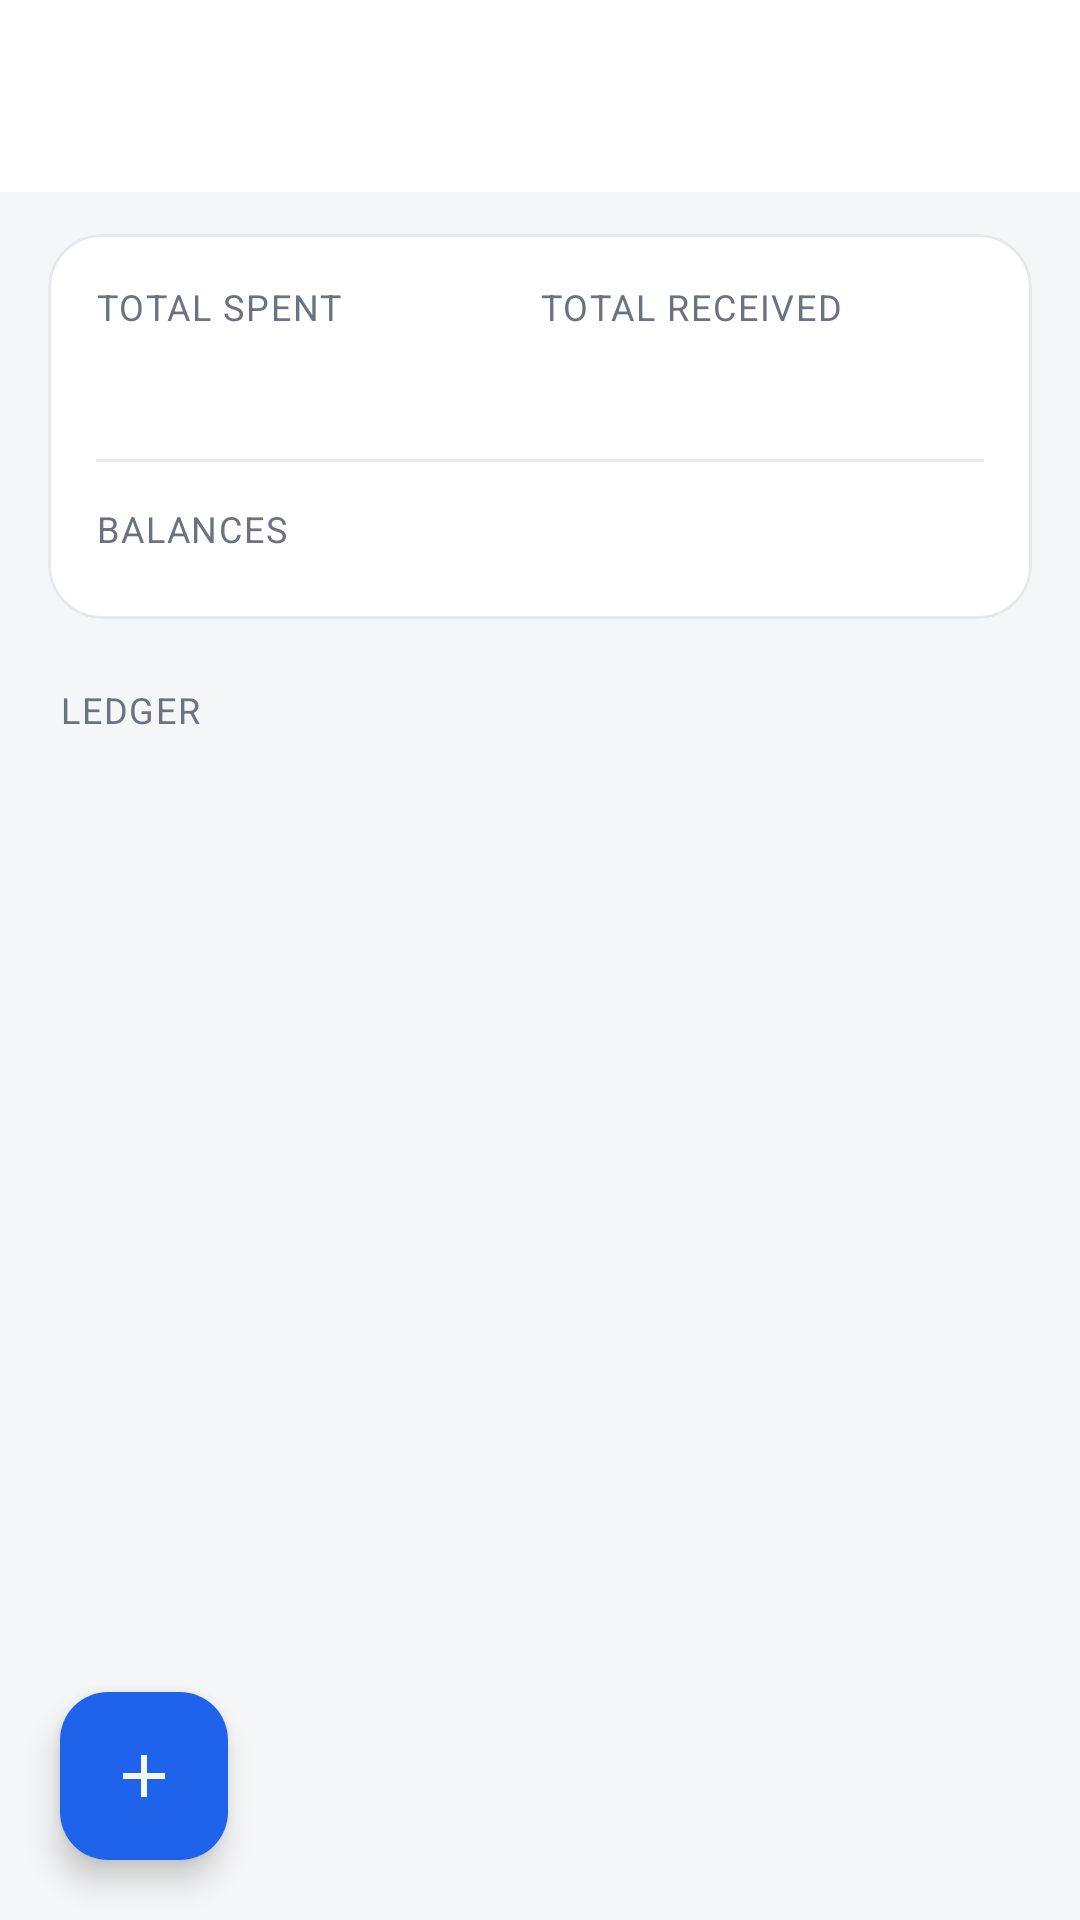

Where icons sit on this 1080 x 1920 app screen, as (x1, y1, x2, y2):
Add to space: (60, 1692, 228, 1860)
